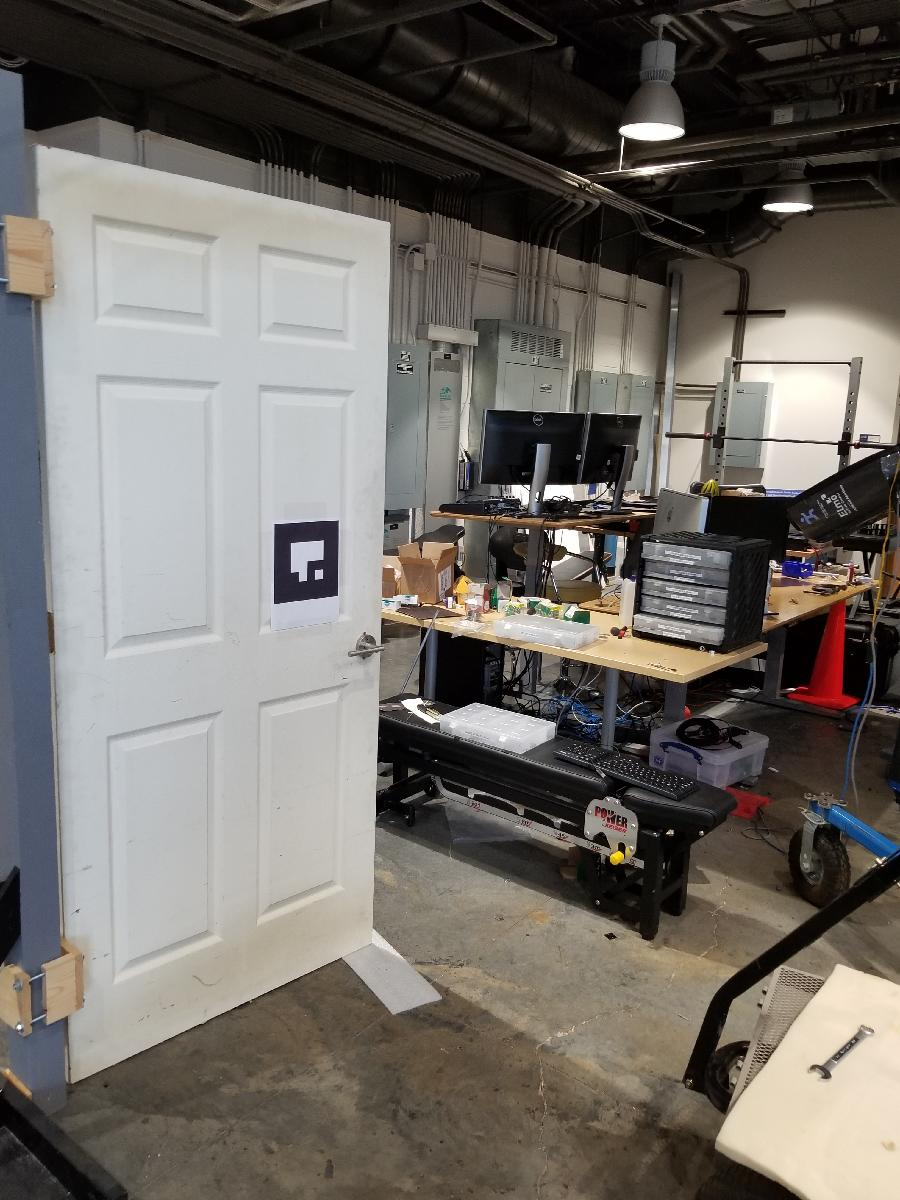door: (25, 139, 393, 1088)
doorHandle: (341, 632, 384, 659)
